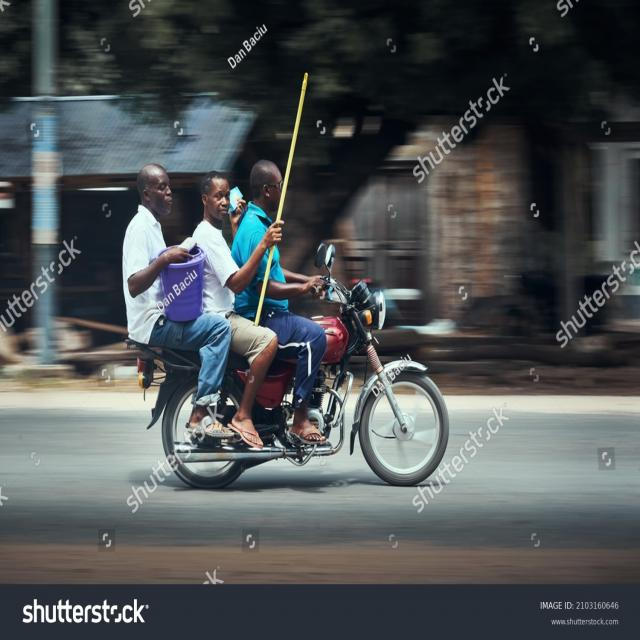Not Wearing Helmet: (245, 134, 322, 236)
Triple Riding: (65, 143, 434, 394)
